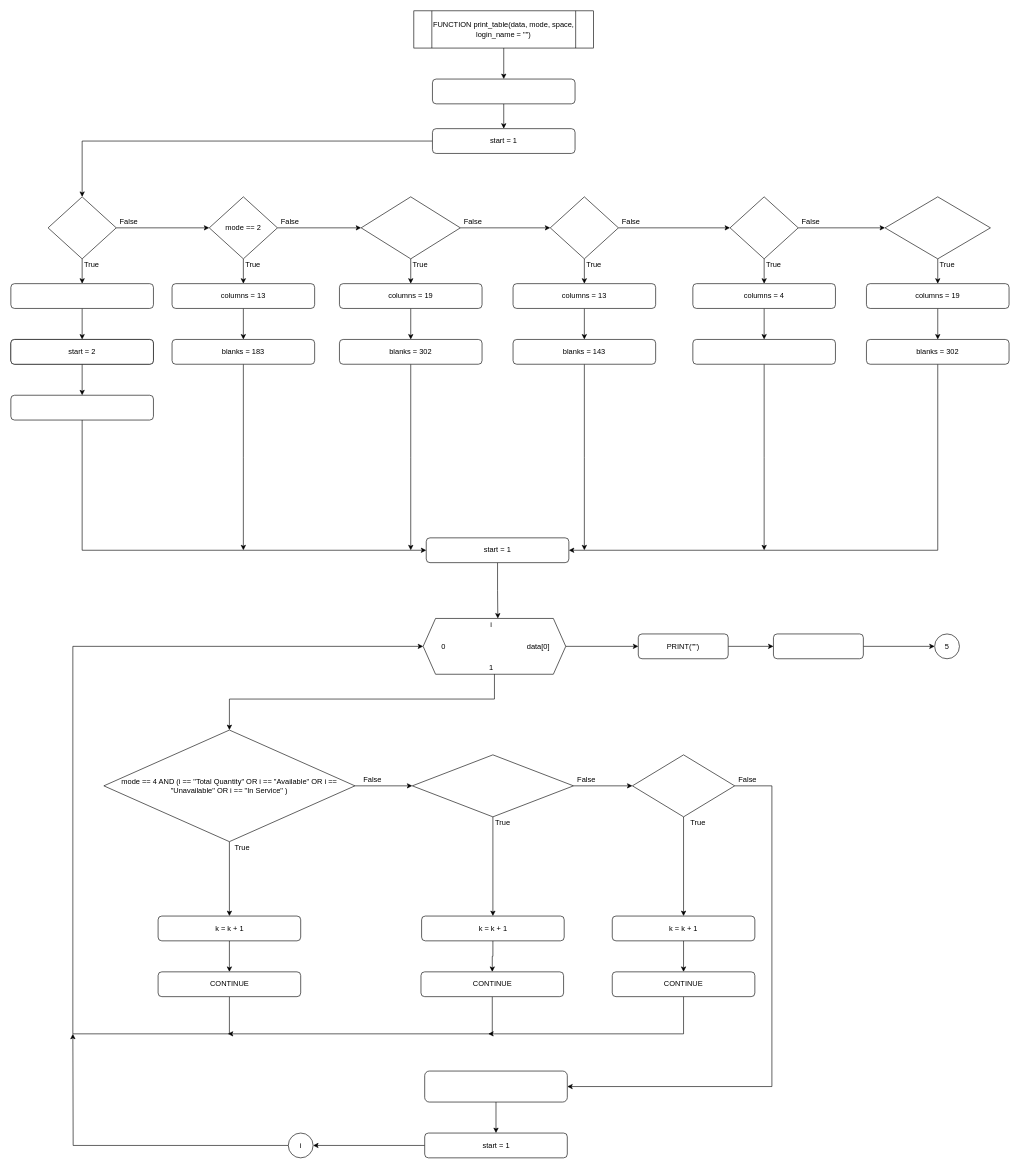
This 1020x1169 diagram has some shape labels left out. Here are the shapes that lost their labels. From the top down, the box of each, then its label:
(432, 78, 575, 104): rows = LEN(data)
(47, 196, 116, 259): mode == 1
(361, 196, 460, 259): mode == 3 OR mode == 5
(550, 196, 618, 259): mode == 4
(729, 196, 798, 259): mode == 6
(884, 196, 990, 259): mode == 7 OR mode == 8
(10, 283, 153, 308): columns = 11
(692, 339, 835, 364): blanks = 61
(10, 395, 153, 420): blanks = 180
(773, 633, 863, 659): PRINT("-" * blanks)
(412, 754, 574, 817): mode == 6 AND (k >= 4 AND k <= 12)
(632, 754, 735, 817): mode == 1 AND k == 3
(424, 1070, 567, 1102): PRINT(i + " " * (int(space[k]) - int(LEN(i))) + " | ", end = "")
